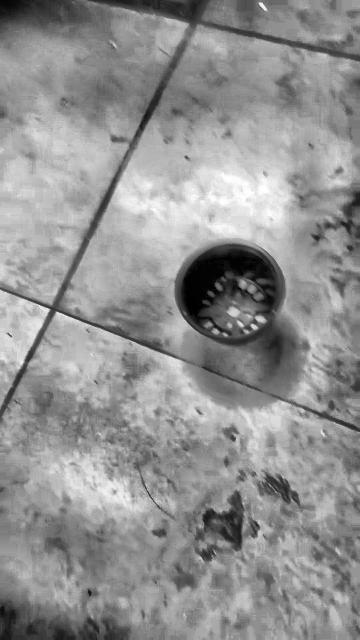pot: (175, 243, 284, 347)
